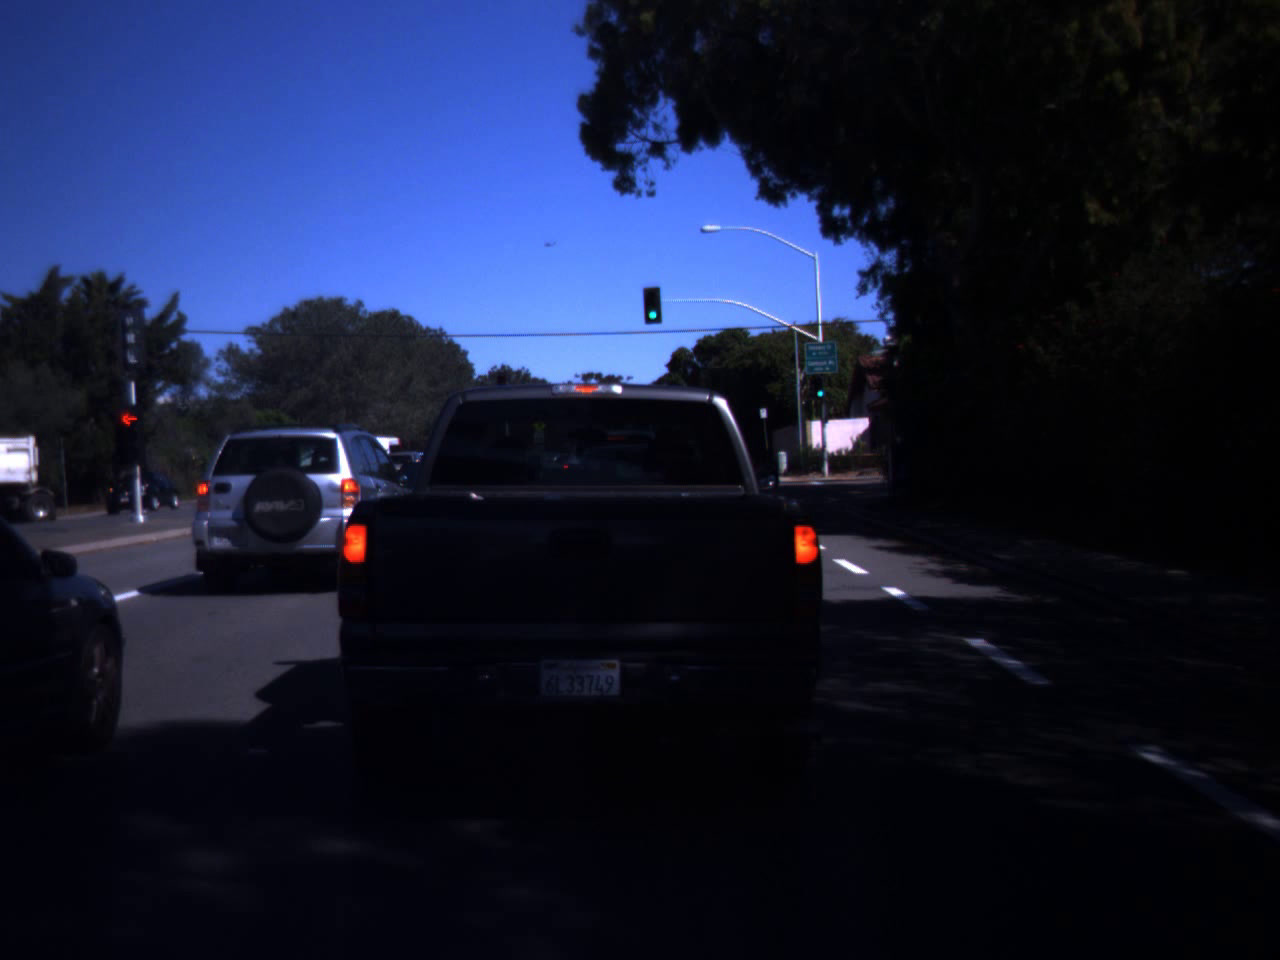go: (644, 291, 662, 321), (814, 373, 826, 398)
stop: (103, 404, 154, 471)
